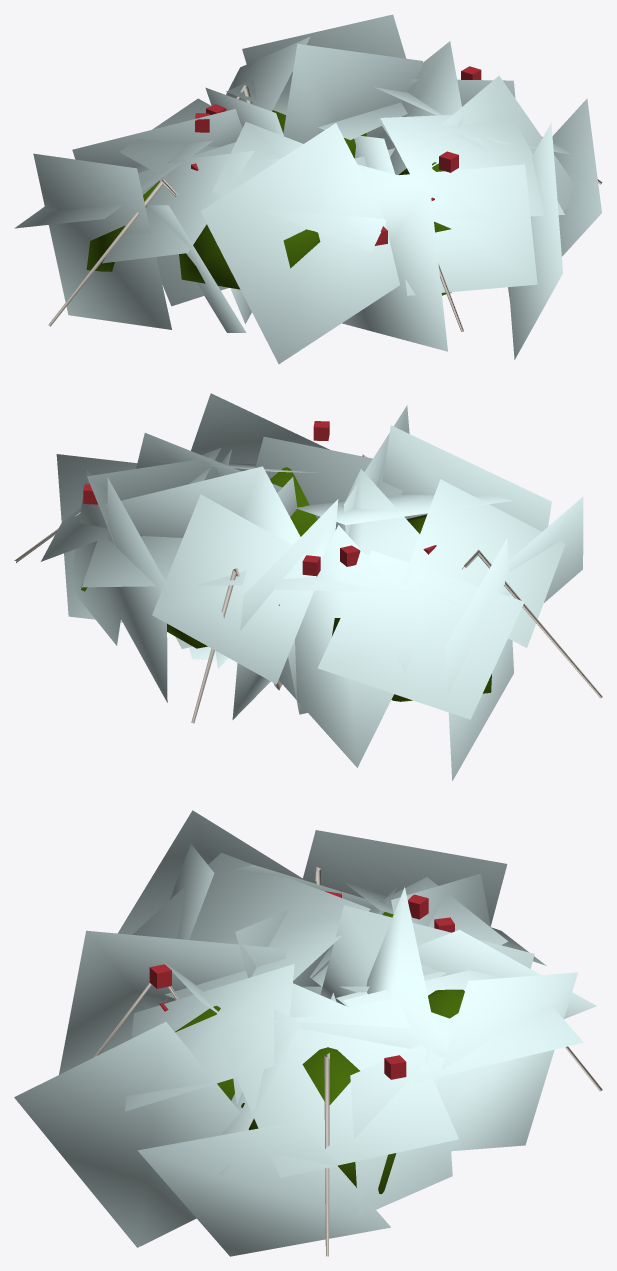
The model's file is bramble.gltf.
3 views of the same model, one above another, from view 1: azimuth 30°, elevation 25°; view 2: azimuth 150°, elevation 25°; view 3: azimuth 270°, elevation 25° (orthographic). The views are drawn at different scales.
Visible parts, largest first — view 1: bramble_Leaf_Mid, bramble_Core_Mid, bramble_Berry_Red, bramble_Bark_Dark; view 2: bramble_Leaf_Mid, bramble_Core_Mid, bramble_Bark_Dark, bramble_Berry_Red; view 3: bramble_Leaf_Mid, bramble_Core_Mid, bramble_Berry_Red, bramble_Bark_Dark.
Part boxes in pixels (left/top/right/bottom): bramble_Leaf_Mid: left=14, top=14, right=601, bottom=364; bramble_Core_Mid: left=86, top=110, right=451, bottom=295; bramble_Berry_Red: left=191, top=66, right=481, bottom=245; bramble_Bark_Dark: left=48, top=85, right=602, bottom=331; bramble_Leaf_Mid: left=41, top=393, right=583, bottom=780; bramble_Core_Mid: left=81, top=467, right=491, bottom=701; bramble_Bark_Dark: left=14, top=454, right=602, bottom=723; bramble_Berry_Red: left=83, top=421, right=436, bottom=605; bramble_Leaf_Mid: left=14, top=810, right=596, bottom=1256; bramble_Core_Mid: left=175, top=912, right=464, bottom=1193; bramble_Berry_Red: left=149, top=890, right=454, bottom=1079; bramble_Bark_Dark: left=94, top=866, right=602, bottom=1256.
Size of the model in its own units: 3.61 by 1.59 by 2.8.
